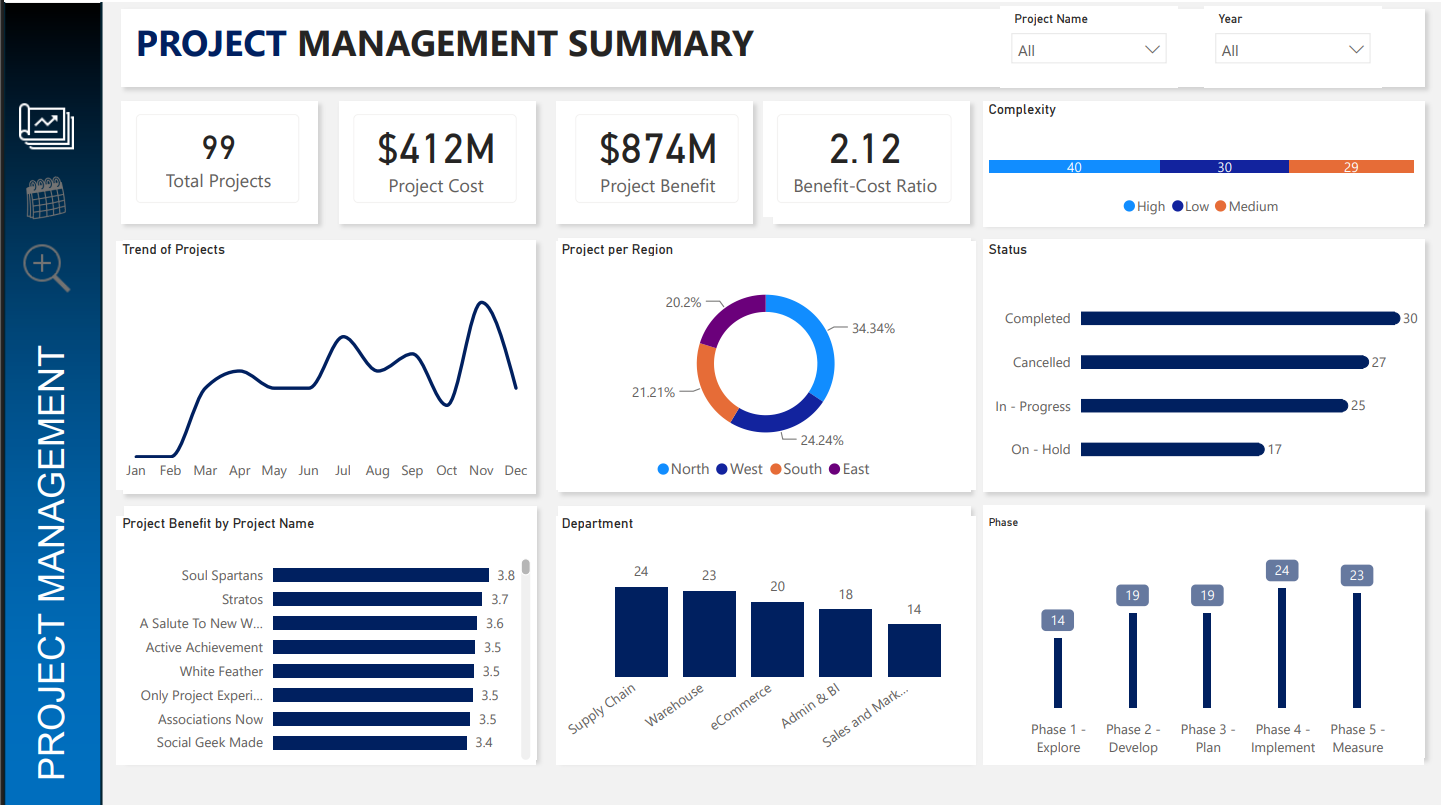

What the dashboard file says about the page in this screenshot:
{"tool":"powerbi","page":{"name":"PROJECT SUMMARY","canvas":[1280,720],"ordinal":0},"visuals":[{"type":"cardVisual","fields":{"Data":["_Measure.Total Projects"]},"box":[101.5,82.1,179.1,113.4],"z":0},{"type":"cardVisual","fields":{"Data":["_Measure.Project Cost"]},"box":[294,82.1,179.1,113.4],"z":1000},{"type":"cardVisual","fields":{"Data":["_Measure.Project Benefit"]},"box":[491,82.1,179.1,113.4],"z":2000},{"type":"cardVisual","fields":{"Data":["_Measure.Benefit-Cost Ratio"]},"box":[670.1,82.1,189.6,113.4],"z":3000},{"type":"barChart","title":"Complexity","fields":{"Series":["Data.Complexity"],"Y":["_Measure.Total Projects"]},"box":[870.1,88.1,391,111],"z":4000},{"type":"lineChart","title":"Trend of Projects","fields":{"Category":["Date Table.Month Name"],"Y":["_Measure.Total Projects"]},"box":[101.5,211.9,371.6,220.9],"z":5000},{"type":"donutChart","title":"Project per Region","fields":{"Category":["Data.Region"],"Y":["_Measure.Total Projects"]},"box":[491,211.9,372,221],"z":6000},{"type":"clusteredBarChart","title":"Project Benefit  by Project Name","fields":{"Category":["Data.Project Name"],"Y":["_Measure.Benefit-Cost Ratio"]},"box":[101,456,372,221],"z":7000},{"type":"clusteredColumnChart","title":"Department","fields":{"Category":["Data.Department"],"Y":["_Measure.Total Projects"]},"box":[491,456,372,221],"z":8000},{"type":"clusteredBarChart","title":"Status","fields":{"Category":["Data.Status"],"Y":["_Measure.Total Projects"]},"box":[870,212,391,221],"z":9000},{"type":"clusteredColumnChart","title":"Phase","fields":{"Category":["Data.Phase"],"Y":["_Measure.Total Projects"]},"box":[870,456,391,221],"z":10000},{"type":"slicer","fields":{"Values":["Data.Project Name"]},"box":[885.1,3,158.2,71.6],"z":11000},{"type":"slicer","fields":{"Values":["Date Table.Year"]},"box":[1065.7,3,158.2,71.6],"z":12000},{"type":"textbox","box":[113.4,7.5,610.4,61.2],"z":13000},{"type":"image","box":[15.1,87.8,48,48],"z":14000},{"type":"image","box":[15.1,212,48,48],"z":15000},{"type":"image","box":[15.1,149.9,48,48],"z":16000}]}

Visuals, with their boxes on the page's 1280x720 design canvas (x1, y1, x2, y2). These are canvas units, not pixel positions in the 1441x805 screenshot, which may show the page scaled, cropped or inside an application window:
cardVisual - _Measure.Total Projects: left=102, top=82, right=281, bottom=196
cardVisual - _Measure.Project Cost: left=294, top=82, right=473, bottom=196
cardVisual - _Measure.Project Benefit: left=491, top=82, right=670, bottom=196
cardVisual - _Measure.Benefit-Cost Ratio: left=670, top=82, right=860, bottom=196
"Complexity" barChart: left=870, top=88, right=1261, bottom=199
"Trend of Projects" lineChart: left=102, top=212, right=473, bottom=433
"Project per Region" donutChart: left=491, top=212, right=863, bottom=433
"Project Benefit  by Project Name" clusteredBarChart: left=101, top=456, right=473, bottom=677
"Department" clusteredColumnChart: left=491, top=456, right=863, bottom=677
"Status" clusteredBarChart: left=870, top=212, right=1261, bottom=433
"Phase" clusteredColumnChart: left=870, top=456, right=1261, bottom=677
slicer - Data.Project Name: left=885, top=3, right=1043, bottom=75
slicer - Date Table.Year: left=1066, top=3, right=1224, bottom=75
textbox: left=113, top=8, right=724, bottom=69
image: left=15, top=88, right=63, bottom=136
image: left=15, top=212, right=63, bottom=260
image: left=15, top=150, right=63, bottom=198
